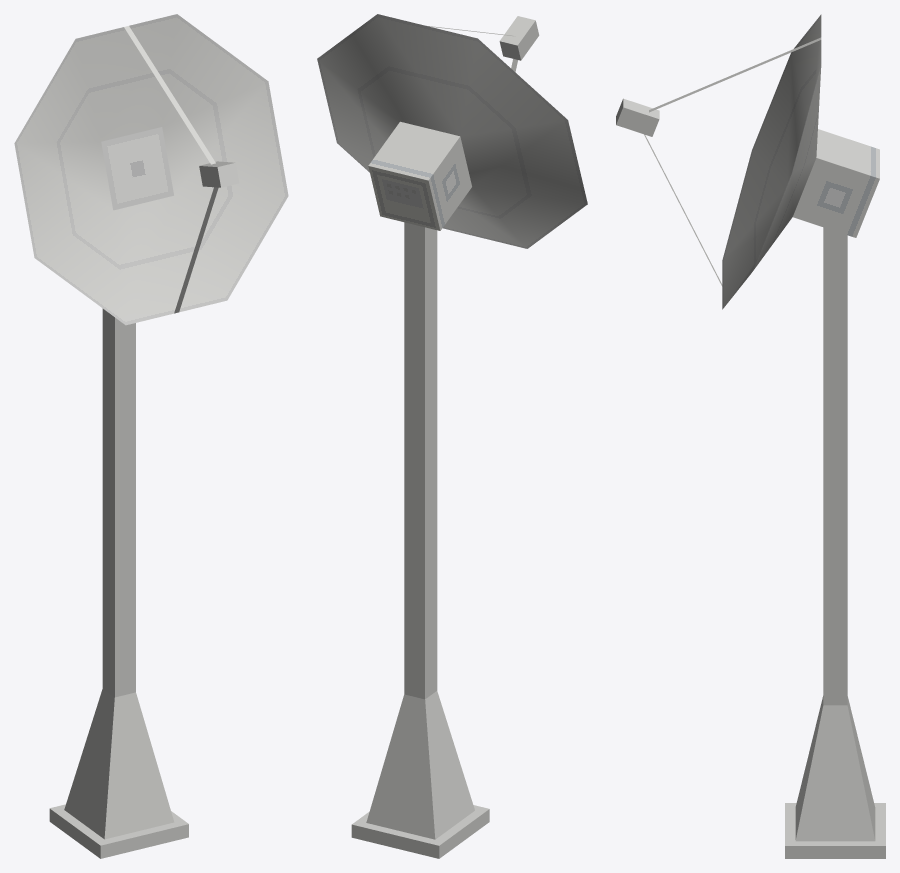
Rendered from 0060_Antenna.glb.
3 renders of one model, left to right at view 1: azimuth 30°, elevation 25°; view 2: azimuth 150°, elevation 25°; view 3: azimuth 270°, elevation 25°, orthographic.
Parts seen in each view (by area): view 1: part_1, part_0; view 2: part_1, part_0; view 3: part_0, part_1.
Boxes of the visible parts, left/top/right/bottom form: part_1: left=14, top=14, right=288, bottom=325; part_0: left=49, top=308, right=188, bottom=858; part_1: left=317, top=14, right=587, bottom=248; part_0: left=351, top=222, right=489, bottom=858; part_0: left=785, top=227, right=885, bottom=858; part_1: left=616, top=14, right=879, bottom=309.
Bounding box in the file's own units: 0.36 × 1.09 × 0.335.
2 materials, 2 textured.
